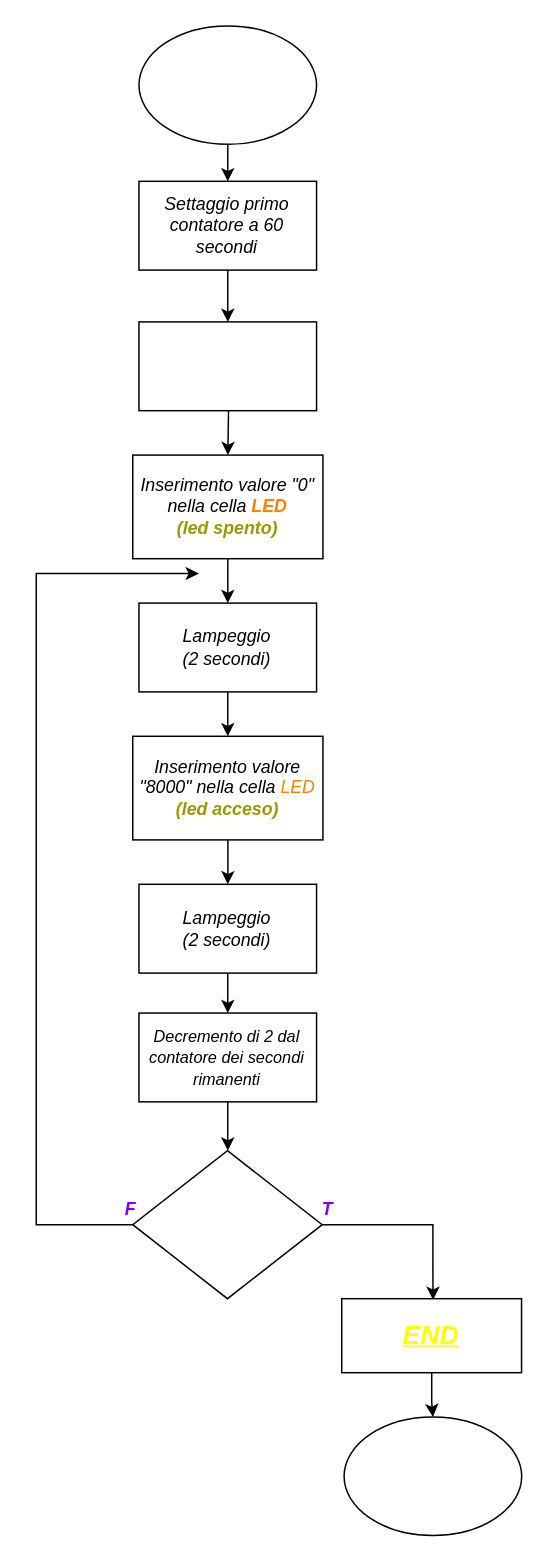
This 548x1561 diagram has some shape labels left out. The centre of each missing label's shape, as x and y in pixels:
contatore == 0: point (226, 1224)
ERRORE: point (227, 84)
FINE: point (432, 1476)
Settaggio secondo contatore a 2 secondi: point (227, 365)
